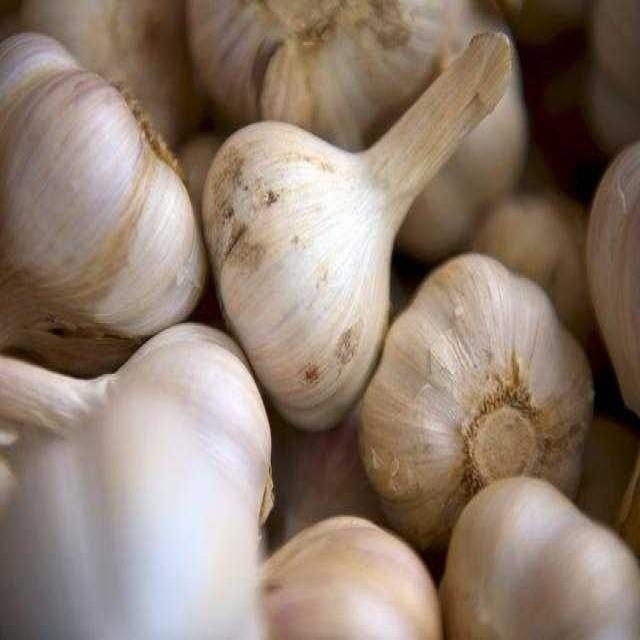onion: (204, 24, 518, 434), (3, 320, 278, 640), (2, 15, 211, 374), (363, 257, 594, 559), (266, 2, 531, 258), (444, 476, 640, 636), (263, 517, 448, 632), (482, 180, 596, 352), (590, 138, 640, 424)
